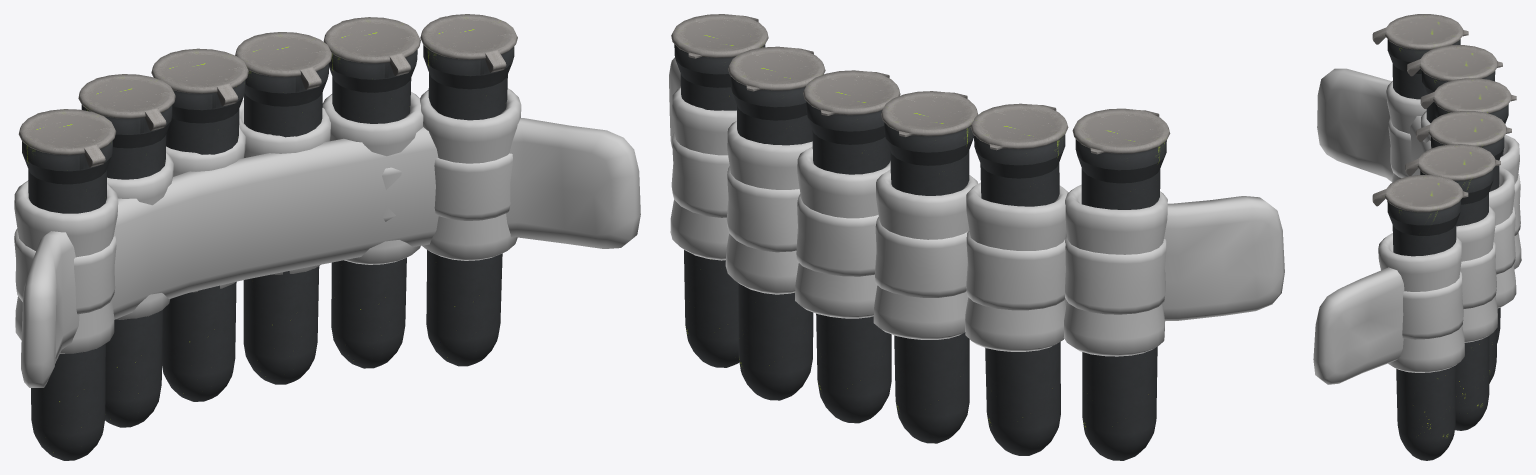
Rendered from Belt.fbx.
3 renders of one model, left to right at view 1: azimuth 30°, elevation 25°; view 2: azimuth 150°, elevation 25°; view 3: azimuth 270°, elevation 25°, orthographic. The views are drawn at different scales.
Visible parts, largest first — view 1: Rookie, Rookie.006, Rookie.002, Rookie.003, Rookie.001, Rookie.005, Rookie.004; view 2: Rookie, Rookie.004, Rookie.001, Rookie.005, Rookie.002, Rookie.003, Rookie.006; view 3: Rookie, Rookie.006, Rookie.003, Rookie.005, Rookie.002, Rookie.004, Rookie.001.
Part boxes in pixels (box(x1,y1,x2,y2)): Rookie: box(14, 88, 640, 387); Rookie.006: box(420, 14, 517, 366); Rookie.002: box(235, 32, 332, 384); Rookie.003: box(323, 17, 420, 368); Rookie.001: box(151, 48, 248, 401); Rookie.005: box(18, 109, 116, 460); Rookie.004: box(78, 74, 175, 427); Rookie: box(669, 57, 1284, 356); Rookie.004: box(970, 103, 1068, 455); Rookie.001: box(881, 91, 978, 443); Rookie.005: box(1072, 108, 1170, 460); Rookie.002: box(803, 70, 900, 423); Rookie.003: box(728, 46, 825, 400); Rookie.006: box(671, 14, 768, 367); Rookie: box(1313, 68, 1521, 384); Rookie.006: box(1372, 175, 1468, 460); Rookie.003: box(1405, 144, 1500, 430); Rookie.005: box(1372, 14, 1468, 99); Rookie.002: box(1416, 111, 1511, 383); Rookie.004: box(1407, 45, 1502, 123); Rookie.001: box(1420, 78, 1516, 343).
Bounding box in the file's own units: 62.02 × 32.25 × 22.44.
